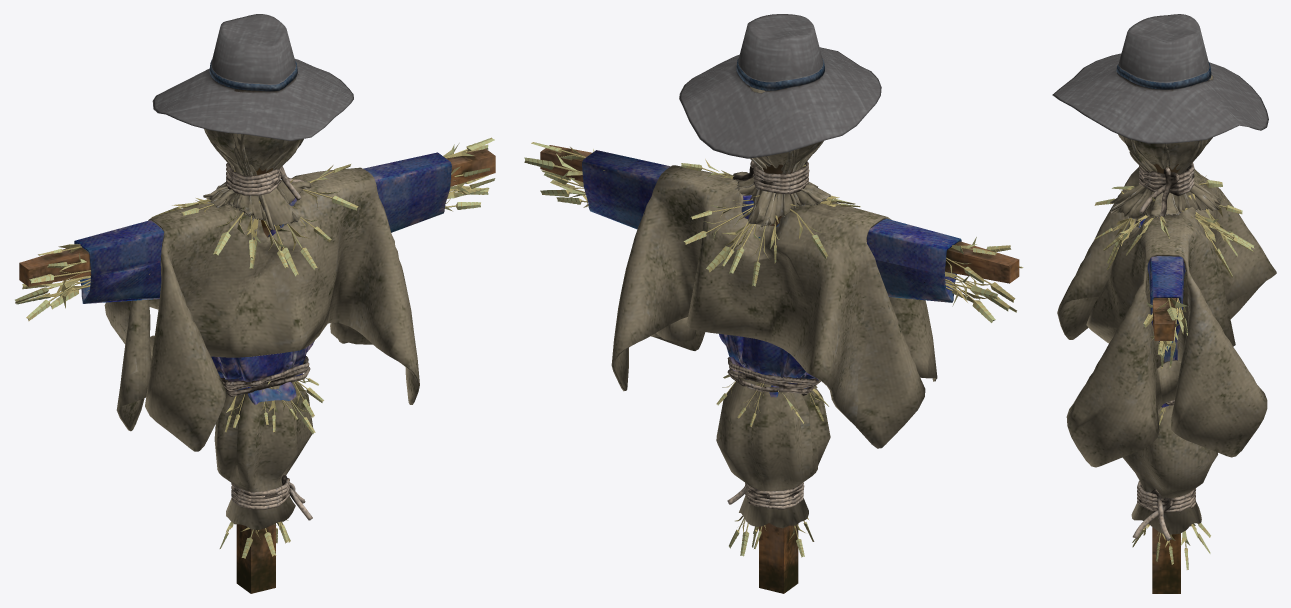
3 renders of one model, left to right at view 1: azimuth 30°, elevation 25°; view 2: azimuth 150°, elevation 25°; view 3: azimuth 270°, elevation 25°, orthographic.
Parts seen in each view (by area): view 1: Plane.005, node-0.906_Wheat_0; view 2: Plane.005, node-0.906_Wheat_0; view 3: Plane.005, node-0.906_Wheat_0.
Part boxes in pixels (x1,y1,x2,y2): Plane.005: [19, 14, 495, 593]; node-0.906_Wheat_0: [15, 137, 495, 558]; Plane.005: [540, 14, 1019, 593]; node-0.906_Wheat_0: [524, 142, 1023, 557]; Plane.005: [1052, 14, 1276, 593]; node-0.906_Wheat_0: [1094, 175, 1254, 569].
Size of the model in its own units: 563 by 627 by 228.
Materials: 2 (2 with a texture image).
